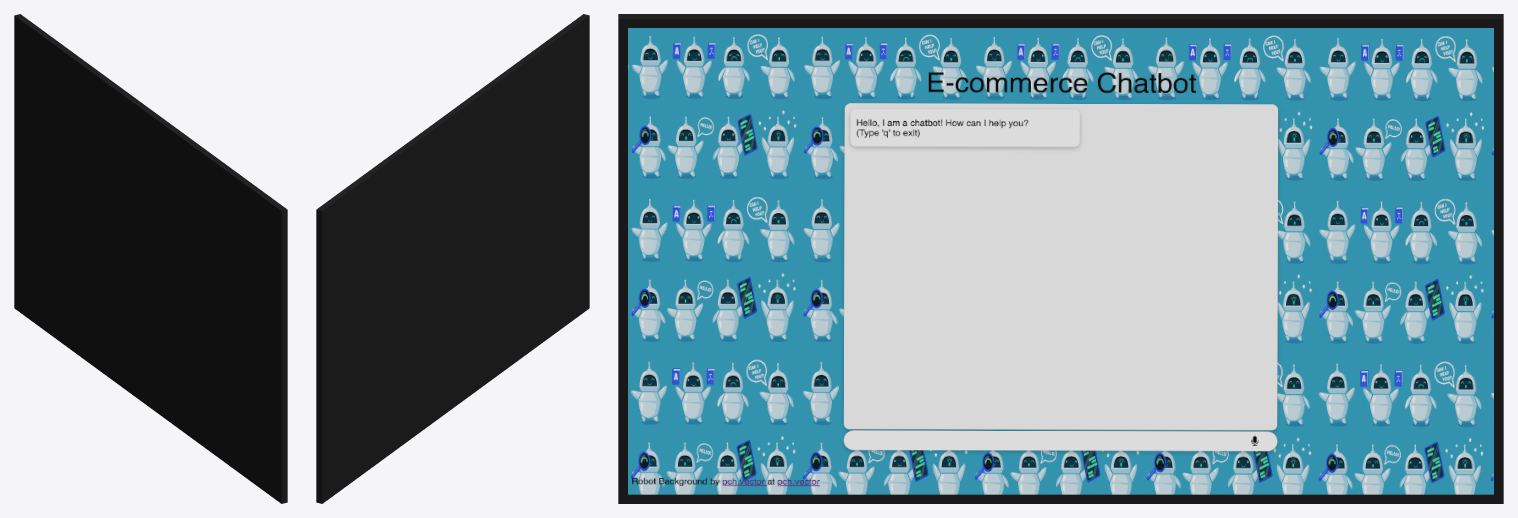
File: chatbot.glb
3 renders of one model, left to right at view 1: azimuth 30°, elevation 25°; view 2: azimuth 150°, elevation 25°; view 3: azimuth 270°, elevation 25°, orthographic. The views are drawn at different scales.
Parts seen in each view (by area): view 1: TV; view 2: TV; view 3: TV.
Part boxes in pixels (x1,y1,x2,y2): TV: (14,14,287,503); TV: (316,14,589,503); TV: (618,14,1503,503).
Size of the model in its own units: 0.0528 by 2.42 by 4.01.
2 materials, 1 textured.
